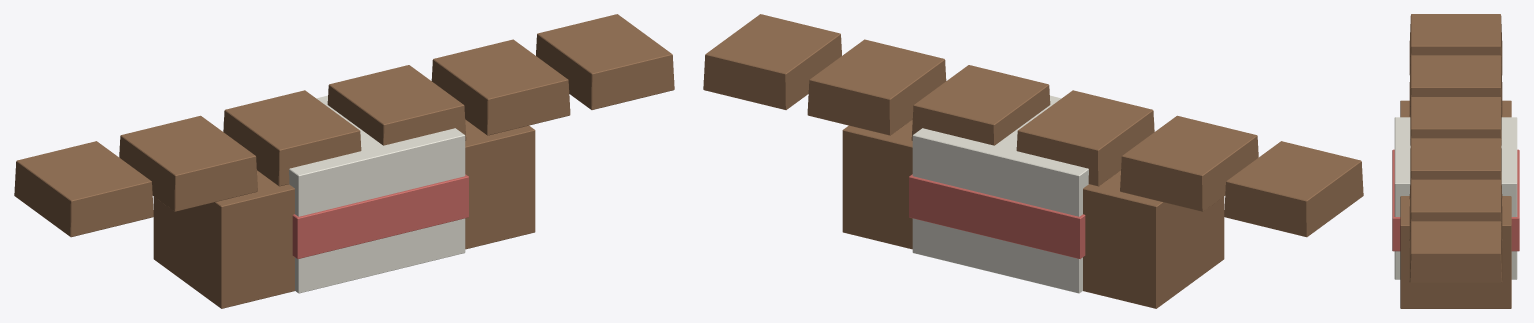
File: IT_chocolate.fbx
3 views of the same model, side by side, from view 1: azimuth 30°, elevation 25°; view 2: azimuth 150°, elevation 25°; view 3: azimuth 270°, elevation 25° (orthographic). The views are drawn at different scales.
Visible parts, largest first — view 1: IT_chocolate; view 2: IT_chocolate; view 3: IT_chocolate.
Boxes of the visible parts, <box> form: IT_chocolate: <box>14,14,674,308</box>; IT_chocolate: <box>703,14,1363,308</box>; IT_chocolate: <box>1392,14,1519,308</box>.
Size of the model in its own units: 1.23 by 0.27 by 0.275.
